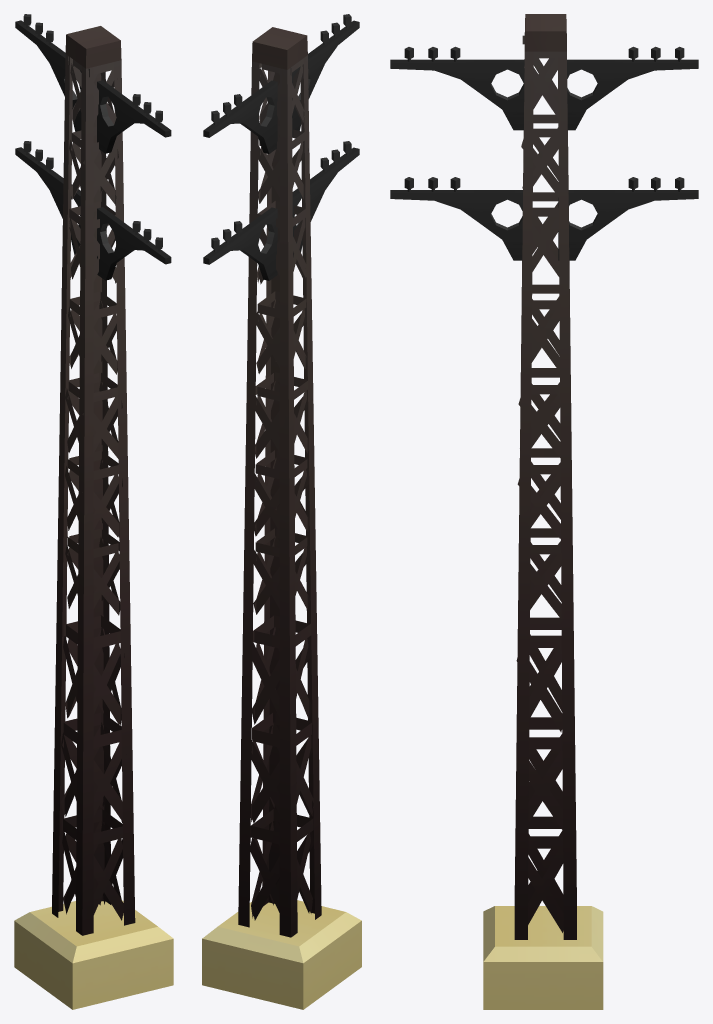
Rendered from SM_Electric_pole_02.fbx.
The picture shows the model from 3 angles, left to right: view 1: azimuth 30°, elevation 25°; view 2: azimuth 150°, elevation 25°; view 3: azimuth 270°, elevation 25°; orthographic projection. The views are drawn at different scales.
Parts seen in each view (by area): view 1: SM_Electric_pole_02; view 2: SM_Electric_pole_02; view 3: SM_Electric_pole_02.
Boxes of the visible parts, x1,y1,x2,y2 form: SM_Electric_pole_02: [14, 14, 173, 1009]; SM_Electric_pole_02: [202, 14, 361, 1009]; SM_Electric_pole_02: [390, 14, 698, 1009].
Bounding box in the file's own units: 0.6392 × 5.66 × 1.64.
